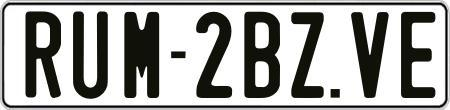2: (193, 12, 233, 98)
B: (241, 10, 277, 99)
E: (399, 9, 432, 95)
M: (124, 12, 159, 101)
R: (25, 10, 64, 103)
U: (70, 10, 110, 99)
V: (349, 11, 392, 101)
Z: (288, 10, 325, 102)
